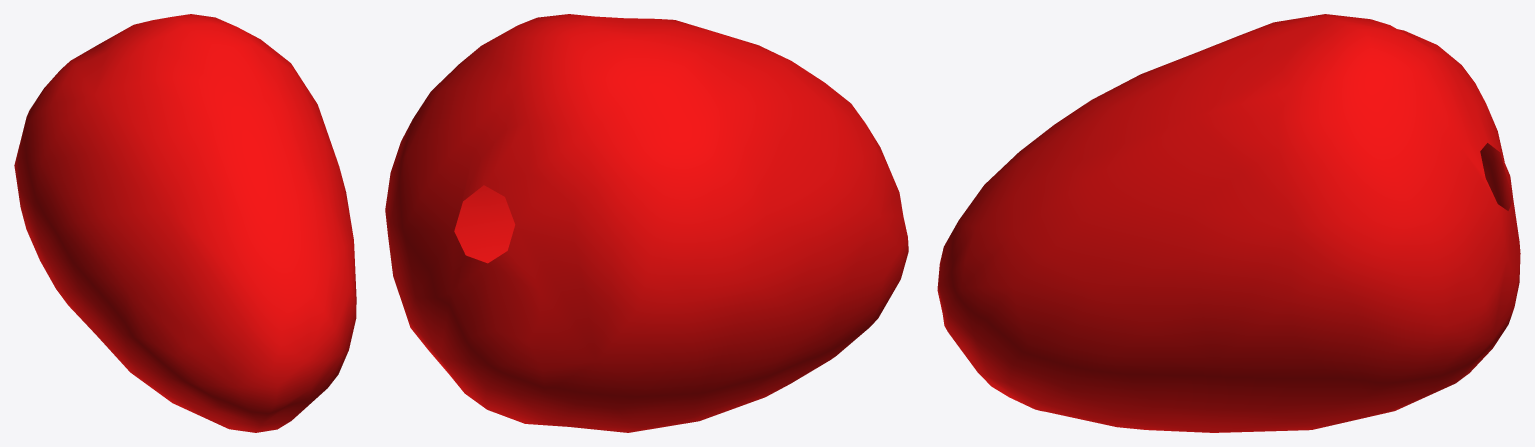
Rendered from strawberry.obj.
The picture shows the model from 3 angles, left to right: view 1: azimuth 30°, elevation 25°; view 2: azimuth 150°, elevation 25°; view 3: azimuth 270°, elevation 25°; orthographic projection. The views are drawn at different scales.
Parts seen in each view (by area): view 1: strawberry; view 2: strawberry; view 3: strawberry.
Boxes of the visible parts, x1,y1,x2,y2 form: strawberry: (14,14,356,432); strawberry: (385,14,908,432); strawberry: (937,14,1520,432).
Size of the model in its own units: 0.0811 by 0.0871 by 0.1137.
